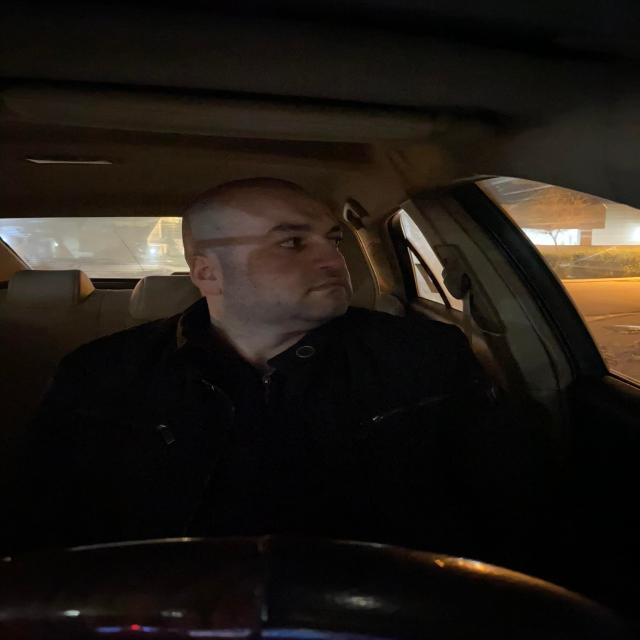LeftRight: (169, 178, 374, 370)
